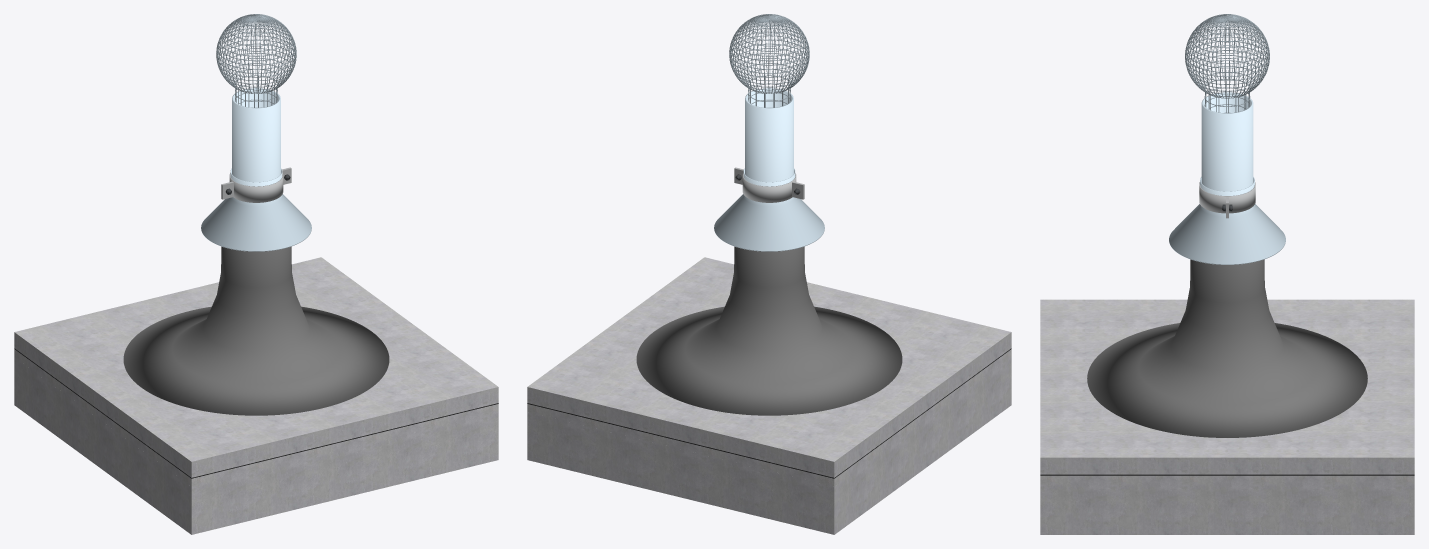
Rendered from vent-pipe.glb.
3 views of the same model, side by side, from view 1: azimuth 30°, elevation 25°; view 2: azimuth 150°, elevation 25°; view 3: azimuth 270°, elevation 25° (orthographic). The views are drawn at different scales.
Visible parts, largest first — view 1: 细石混凝土屋面层, 一布四涂, 钢筋混凝土屋面板, 管根伞形罩, 球形镀锌钢丝罩, 透气管, 水泥砂浆找平层, 螺栓抱箍, 屋面隔离层; view 2: 细石混凝土屋面层, 一布四涂, 钢筋混凝土屋面板, 管根伞形罩, 球形镀锌钢丝罩, 透气管, 水泥砂浆找平层, 螺栓抱箍, 屋面隔离层; view 3: 细石混凝土屋面层, 一布四涂, 钢筋混凝土屋面板, 管根伞形罩, 球形镀锌钢丝罩, 透气管, 水泥砂浆找平层, 螺栓抱箍, 屋面隔离层.
Part boxes in pixels (x1,y1,x2,y2): 细石混凝土屋面层: [14, 257, 498, 477]; 一布四涂: [123, 246, 389, 415]; 钢筋混凝土屋面板: [14, 357, 498, 534]; 管根伞形罩: [201, 168, 311, 251]; 球形镀锌钢丝罩: [216, 14, 296, 107]; 透气管: [232, 88, 280, 182]; 水泥砂浆找平层: [14, 349, 498, 486]; 螺栓抱箍: [221, 167, 291, 202]; 屋面隔离层: [14, 348, 498, 478]; 细石混凝土屋面层: [527, 257, 1011, 477]; 一布四涂: [636, 246, 902, 415]; 钢筋混凝土屋面板: [527, 357, 1011, 534]; 管根伞形罩: [714, 168, 824, 251]; 球形镀锌钢丝罩: [729, 14, 809, 107]; 透气管: [745, 88, 793, 182]; 水泥砂浆找平层: [527, 349, 1011, 486]; 螺栓抱箍: [734, 167, 804, 202]; 屋面隔离层: [527, 348, 1011, 478]; 细石混凝土屋面层: [1040, 299, 1414, 474]; 一布四涂: [1087, 259, 1367, 437]; 钢筋混凝土屋面板: [1040, 484, 1414, 534]; 管根伞形罩: [1169, 177, 1285, 264]; 球形镀锌钢丝罩: [1185, 14, 1269, 113]; 透气管: [1201, 92, 1253, 191]; 水泥砂浆找平层: [1040, 475, 1414, 483]; 螺栓抱箍: [1199, 182, 1255, 218]; 屋面隔离层: [1040, 474, 1414, 475].
Size of the model in its own units: 0.8 by 1.09 by 0.8.
Materials: 10 (4 with a texture image).
